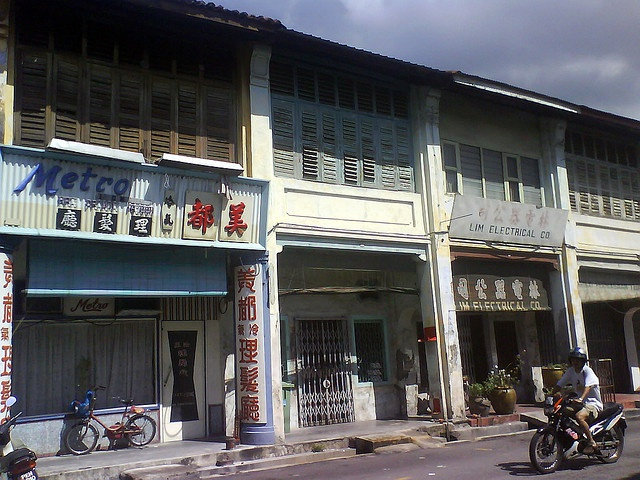non-vehicle: (527, 386, 626, 473), (0, 395, 37, 480)
